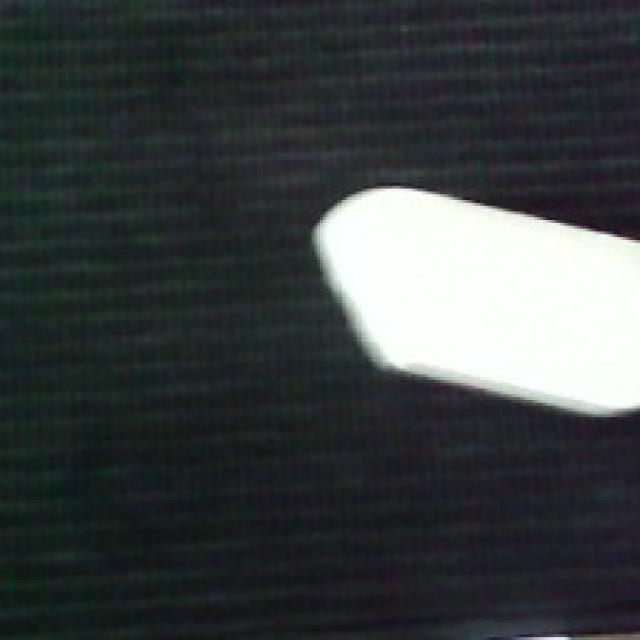defected: (305, 174, 640, 419)
